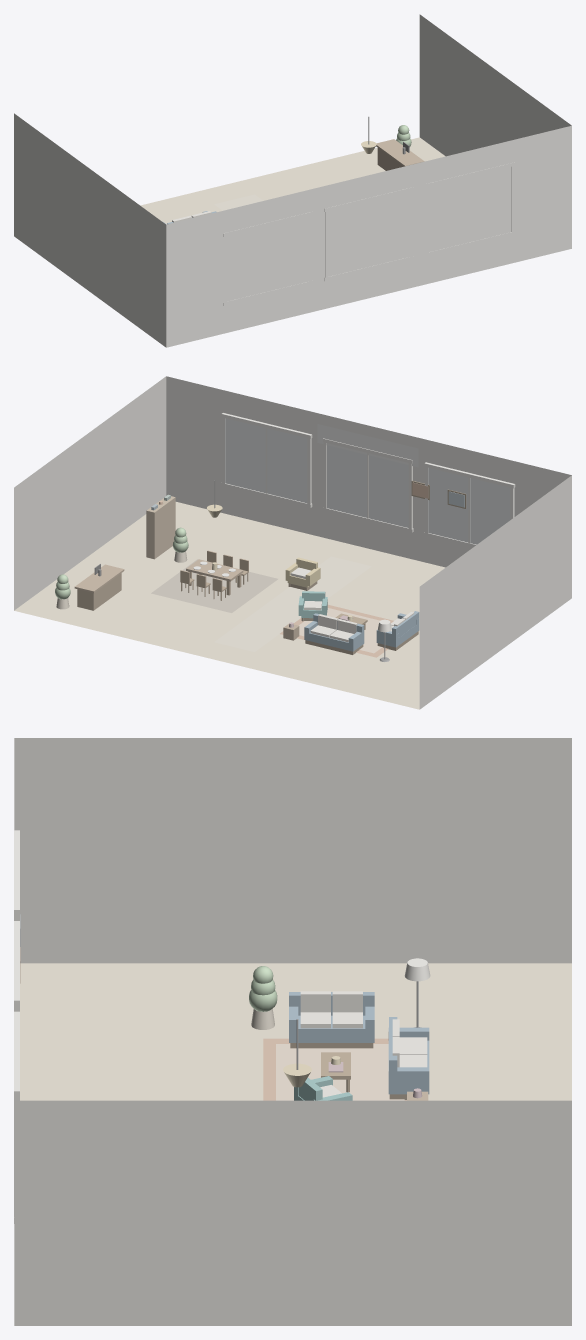
The picture shows the model from 3 angles, top to bottom: view 1: azimuth 30°, elevation 25°; view 2: azimuth 150°, elevation 25°; view 3: azimuth 270°, elevation 25°; orthographic projection. The views are drawn at different scales.
Bounding box in the file's own units: 20 × 5.8 × 13.01.
